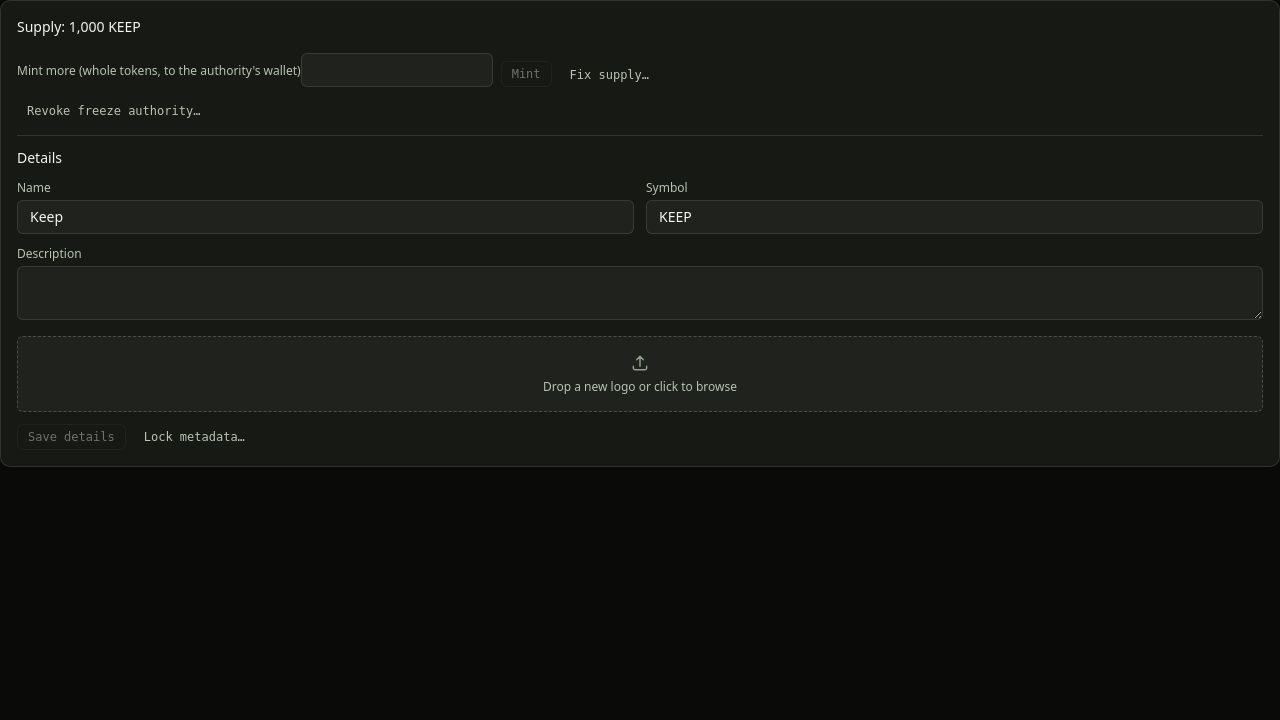
Test case: SolanaTokenManage › mints more for the authority, then re-reads the token from the chain
Expected: the text "1,000" is shown, [69,17,104,36]
Type "500" into the field labelled "Mint more (whole tokens, to the authority's wallet)". click: (397, 70)
box: [301,53,493,87]
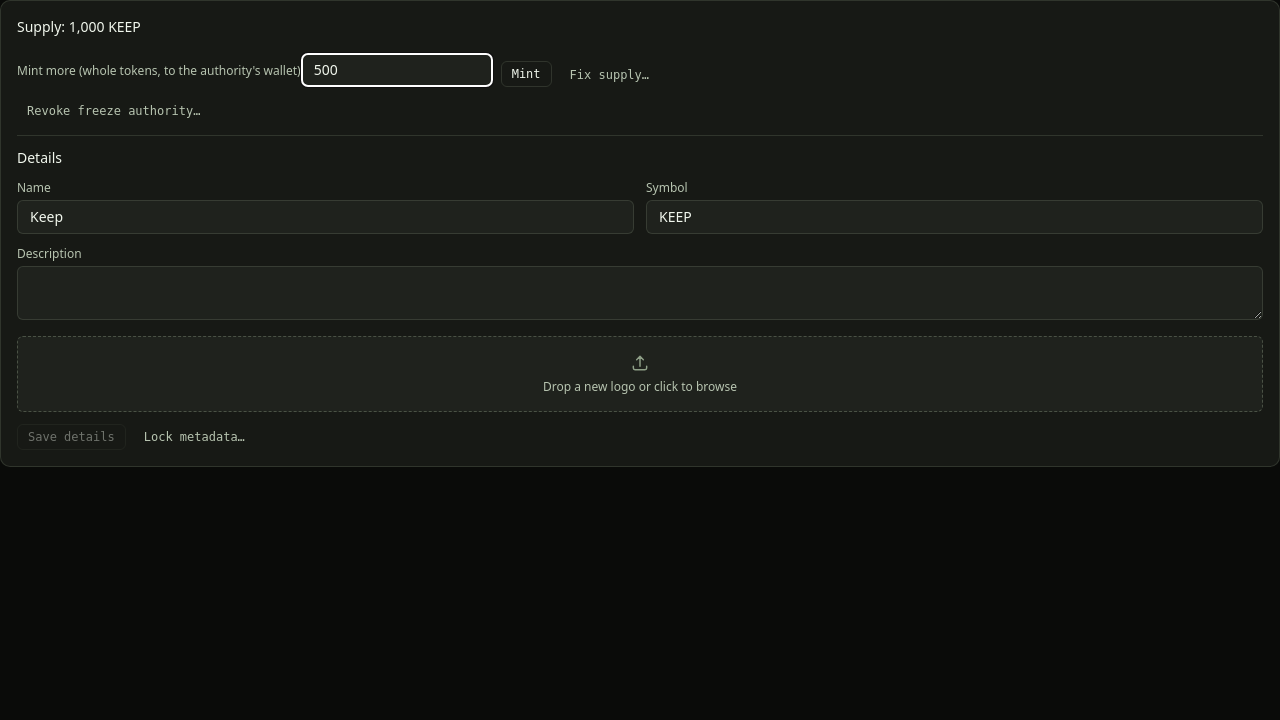
Click the button "Mint". click: (526, 74)
box: [501,61,552,87]
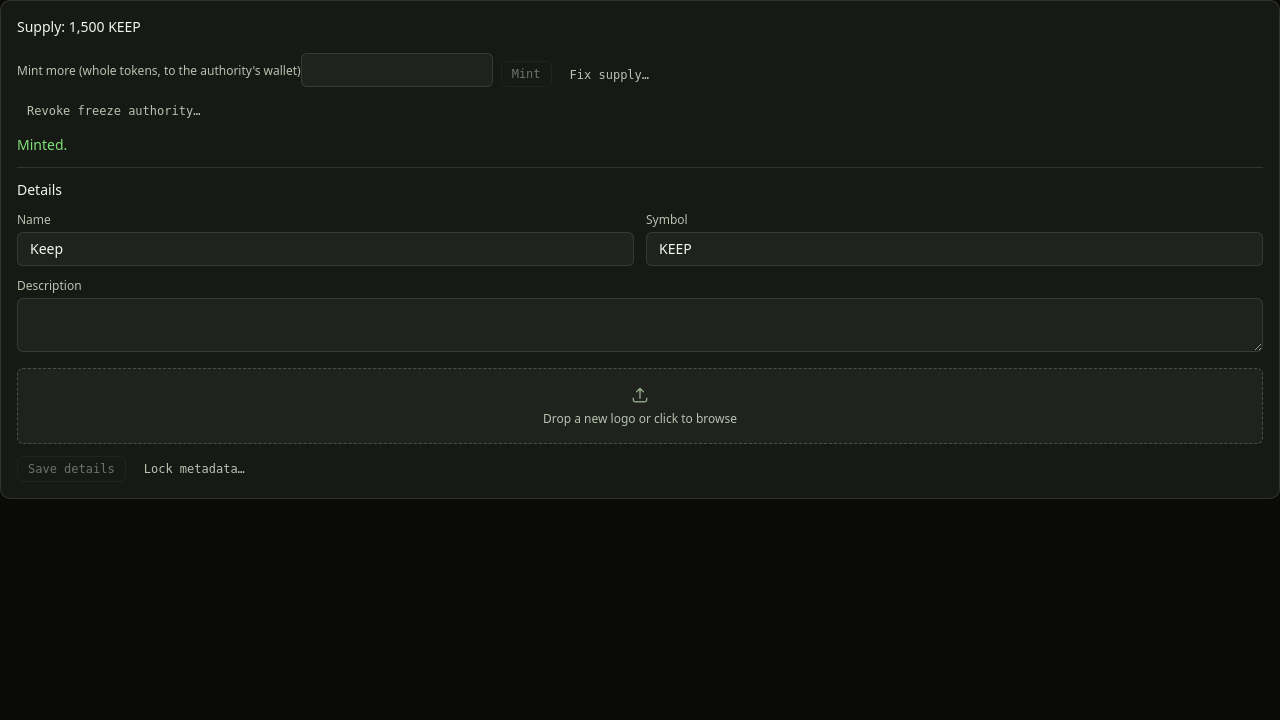
Expected: the text "Minted." is shown, [17,135,67,154]
Expected: the text "1,500" is shown, [69,17,104,36]
